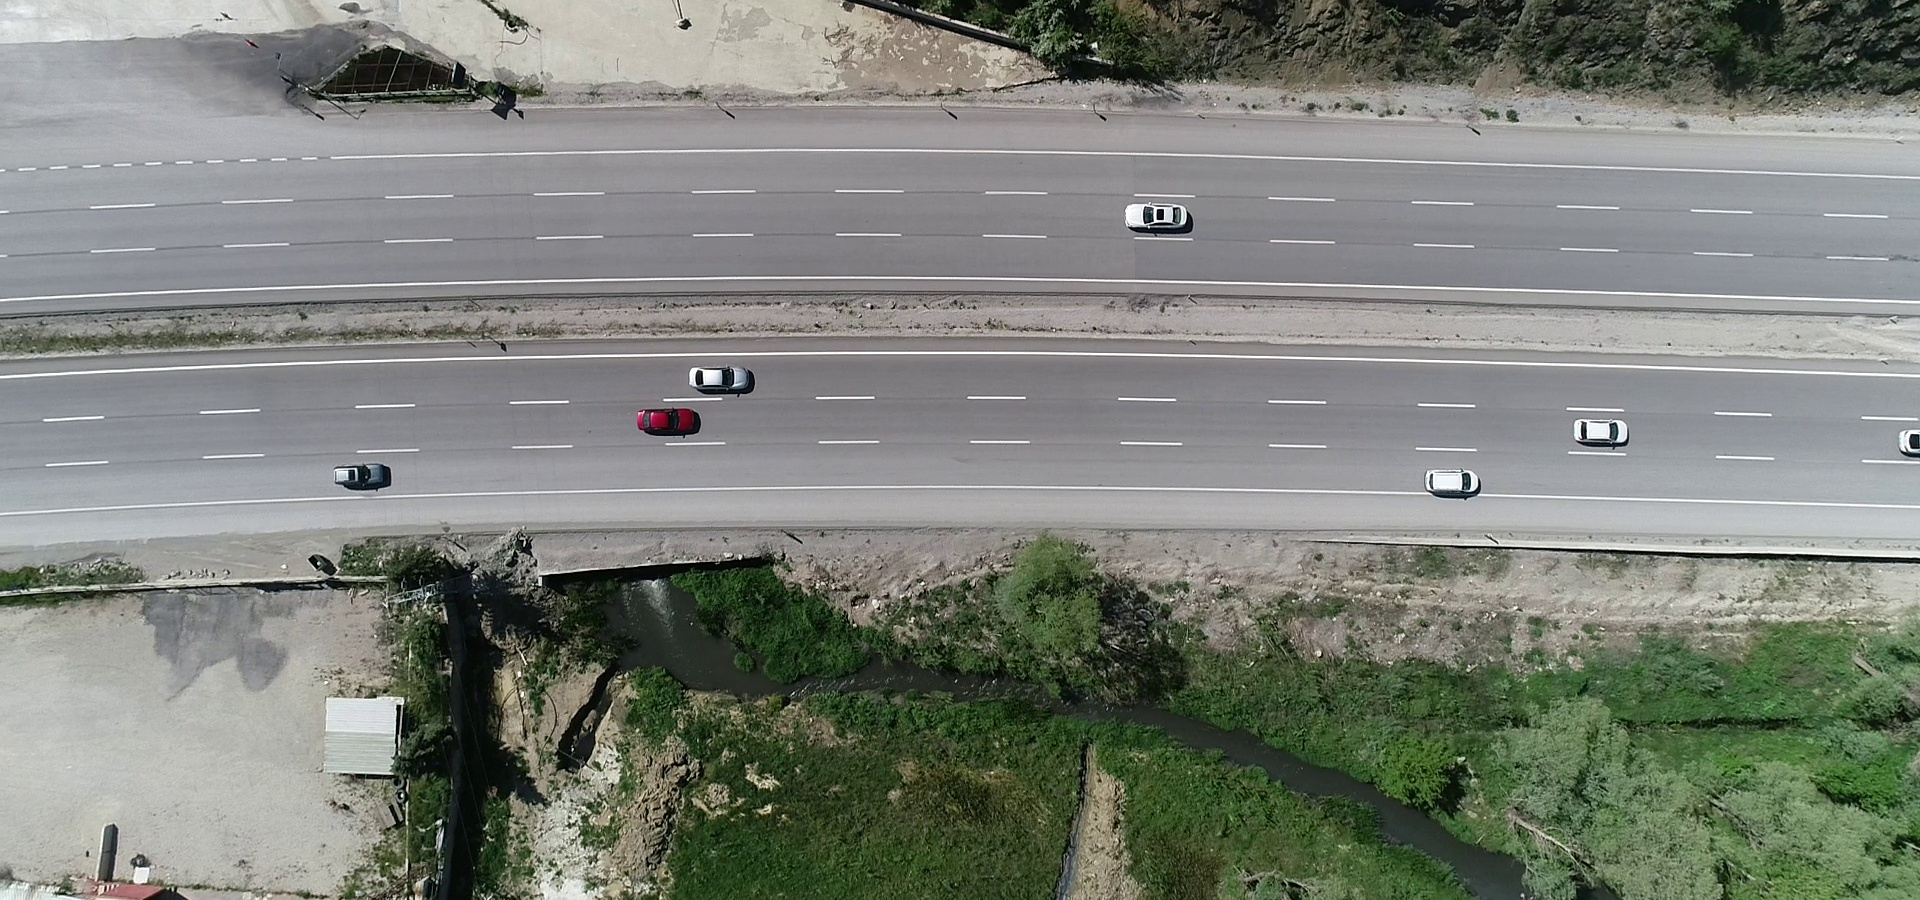araba: (624, 392, 714, 440), (1117, 193, 1202, 240), (680, 358, 758, 399), (1420, 467, 1489, 503), (1573, 415, 1633, 453), (331, 458, 392, 495), (1894, 426, 1920, 458)
